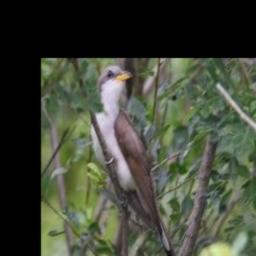Cuckoo: (92, 64, 173, 254)
